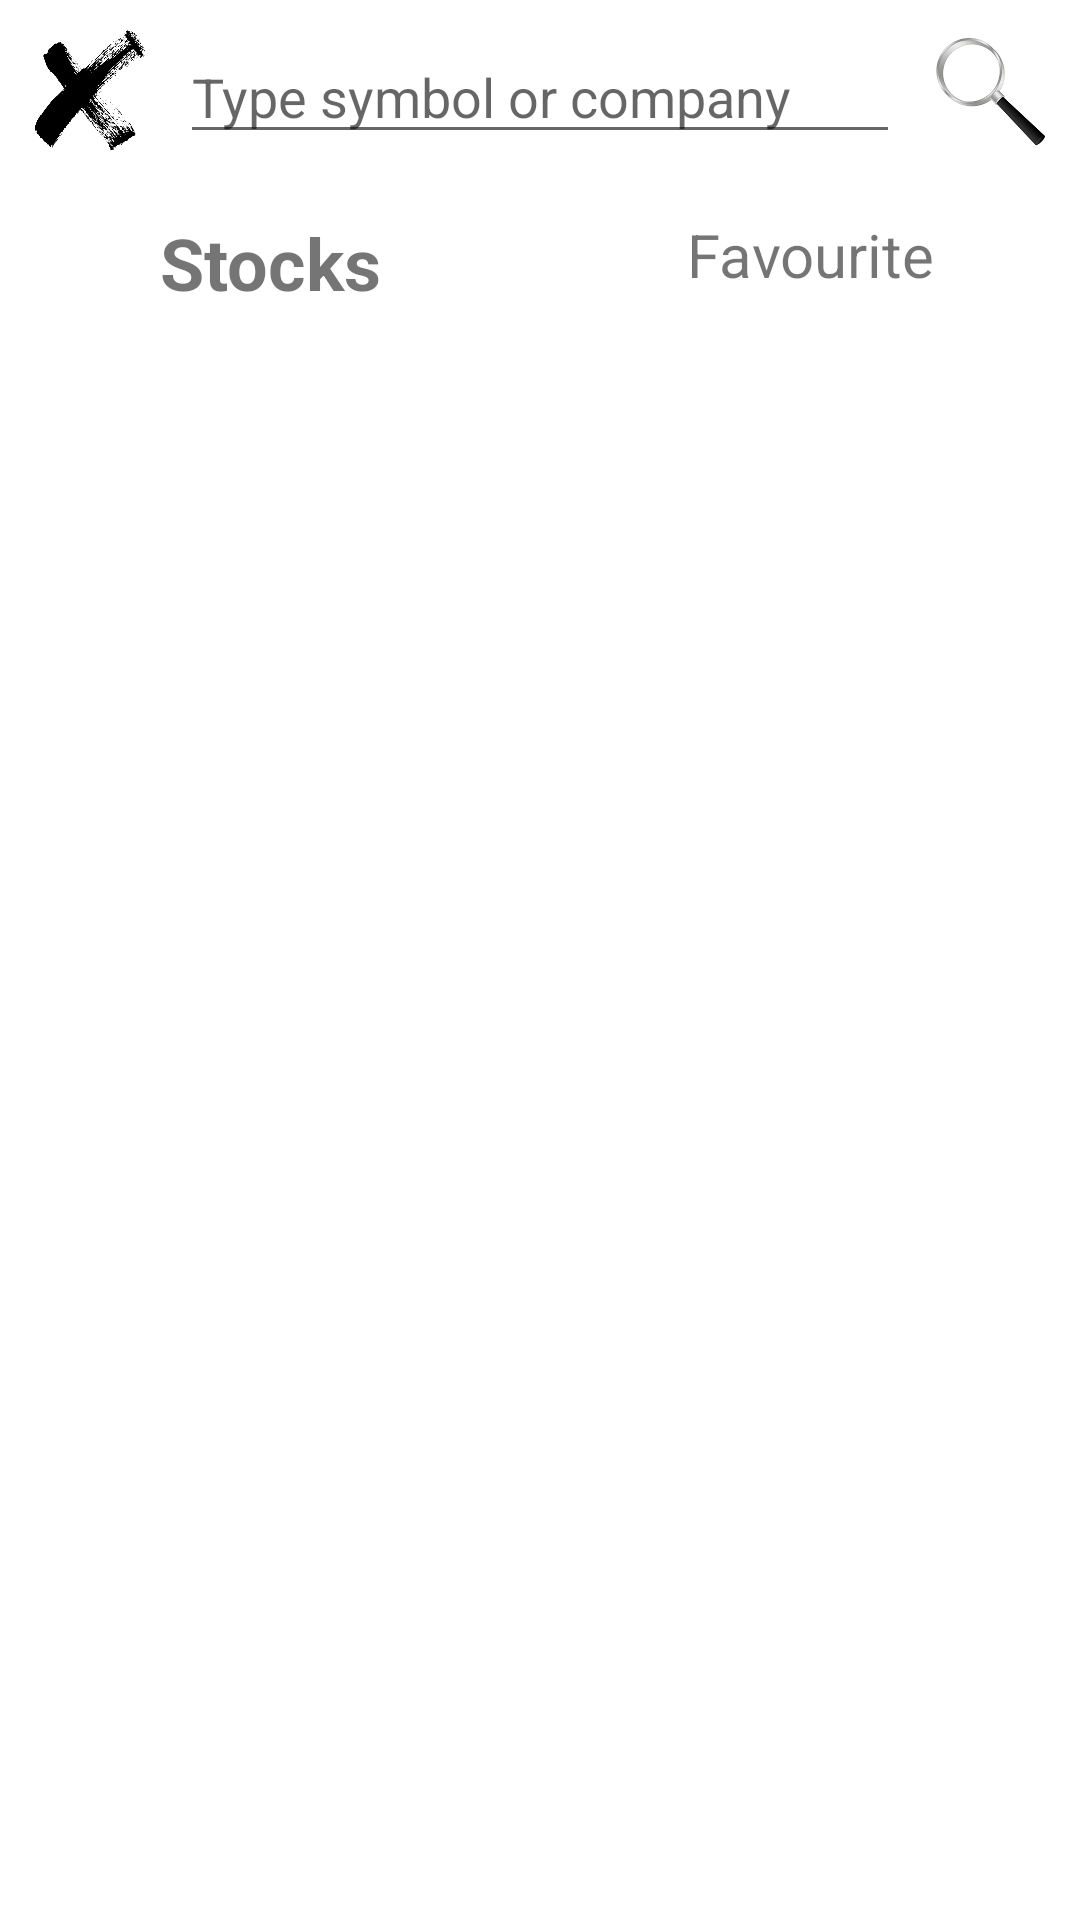

Named icons in this screenshot (1080 x 1920) and their centers, [x,y]:
Image for cancel typing button: [90,90]
Magnifying glass for search button: [990,91]
